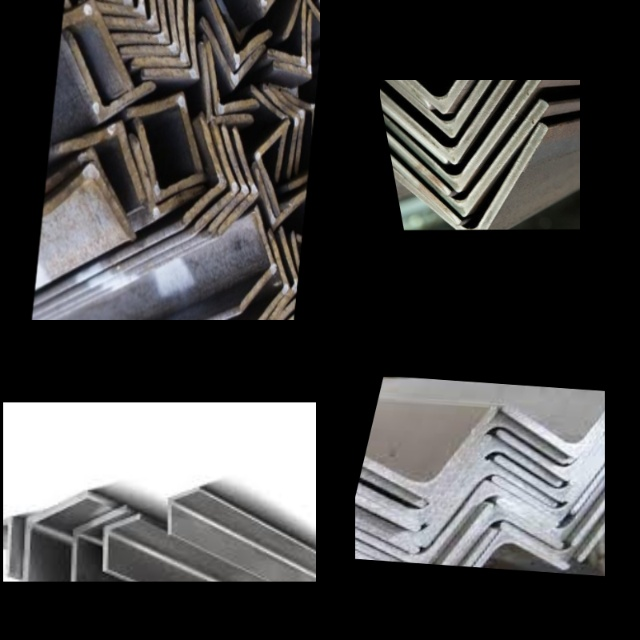Angle: (380, 80, 558, 185), (382, 109, 558, 206), (386, 131, 557, 230), (380, 80, 553, 157), (357, 407, 489, 495), (488, 441, 605, 518), (380, 80, 553, 130), (495, 462, 605, 539), (355, 503, 485, 567), (496, 385, 605, 455), (355, 500, 468, 566), (492, 413, 605, 477), (59, 117, 145, 200), (442, 514, 562, 572), (385, 122, 456, 219), (355, 465, 427, 559), (42, 165, 136, 234), (67, 44, 151, 120), (380, 95, 446, 191), (127, 85, 205, 165), (355, 523, 491, 568), (59, 0, 134, 81), (493, 443, 599, 498), (127, 141, 203, 216), (355, 489, 463, 540), (25, 494, 84, 582), (133, 126, 202, 199), (145, 0, 202, 88), (355, 489, 422, 562), (380, 80, 442, 158), (452, 533, 572, 573), (45, 146, 125, 205), (135, 0, 195, 78), (207, 1, 270, 71), (196, 52, 254, 128), (380, 80, 547, 106), (187, 121, 227, 223), (220, 132, 259, 234), (202, 45, 257, 117), (212, 128, 251, 229), (125, 0, 183, 67), (72, 509, 125, 582), (200, 25, 261, 87), (202, 129, 239, 226), (355, 513, 423, 563), (243, 211, 278, 306), (258, 92, 299, 173), (265, 88, 304, 169), (253, 118, 286, 208), (247, 93, 284, 173), (118, 0, 172, 54), (269, 234, 300, 320), (276, 6, 314, 76), (259, 236, 290, 320), (270, 0, 309, 66), (574, 441, 605, 512), (110, 0, 163, 39), (278, 237, 302, 320), (582, 486, 605, 560), (355, 538, 420, 563), (105, 518, 137, 568), (288, 0, 320, 47), (282, 248, 301, 320), (380, 80, 426, 109), (169, 488, 197, 532), (103, 0, 147, 22)
